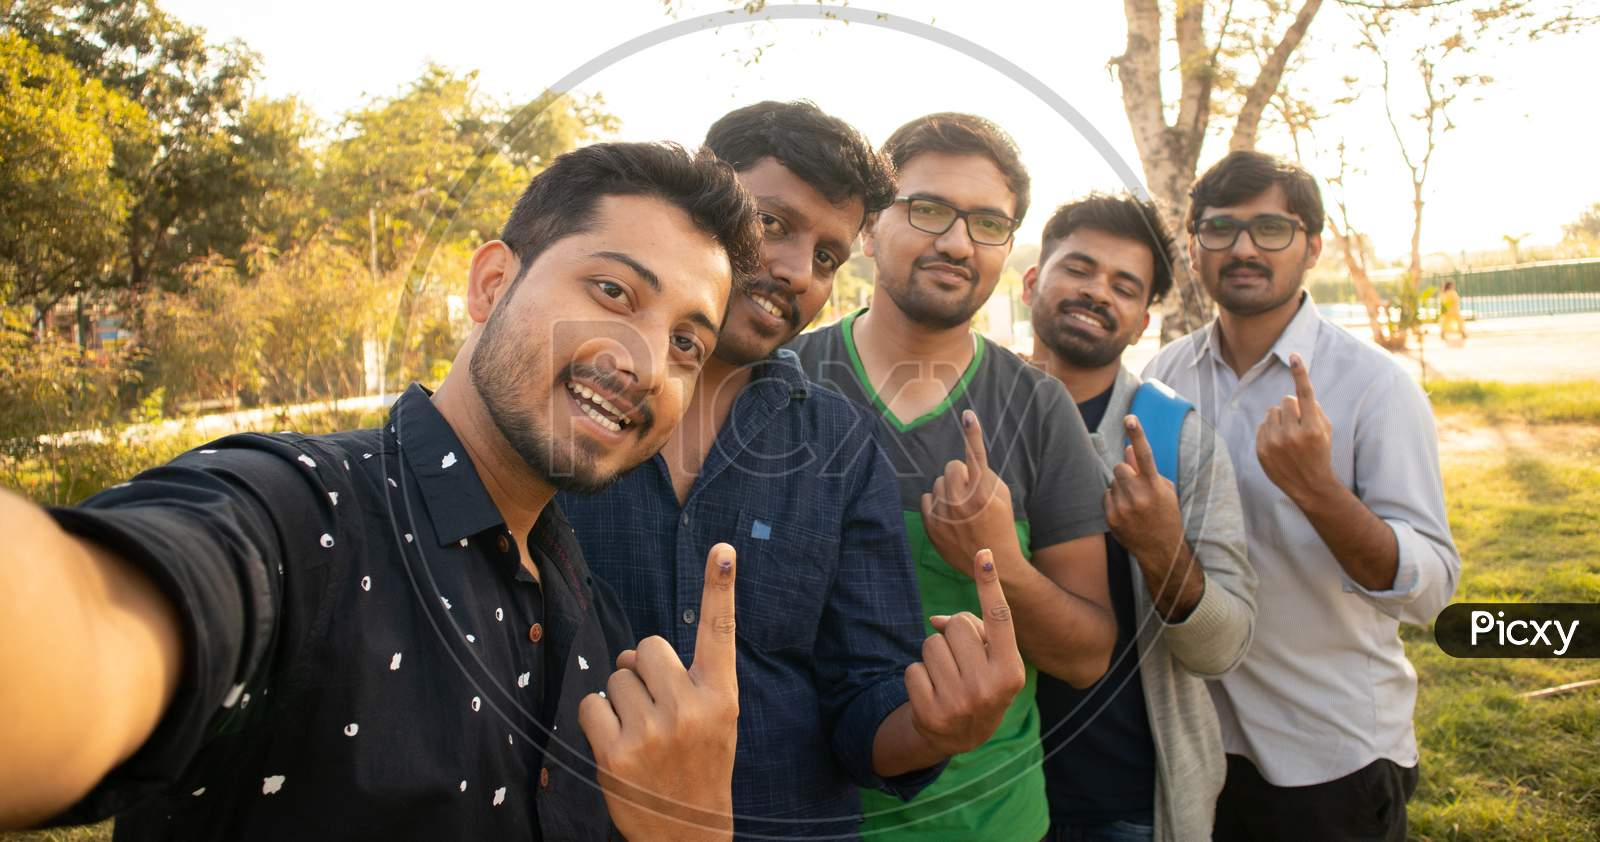men: (442, 131, 726, 499), (710, 90, 871, 379), (880, 90, 1029, 370), (1030, 178, 1174, 381), (1187, 145, 1341, 322)
